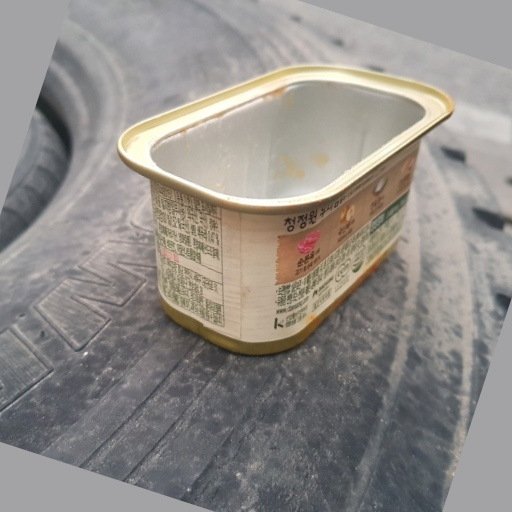Metal_2: (114, 64, 454, 355)
